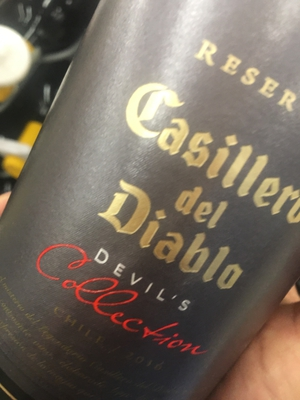casillero del diablo devils collection rojo: (2, 9, 300, 384)
